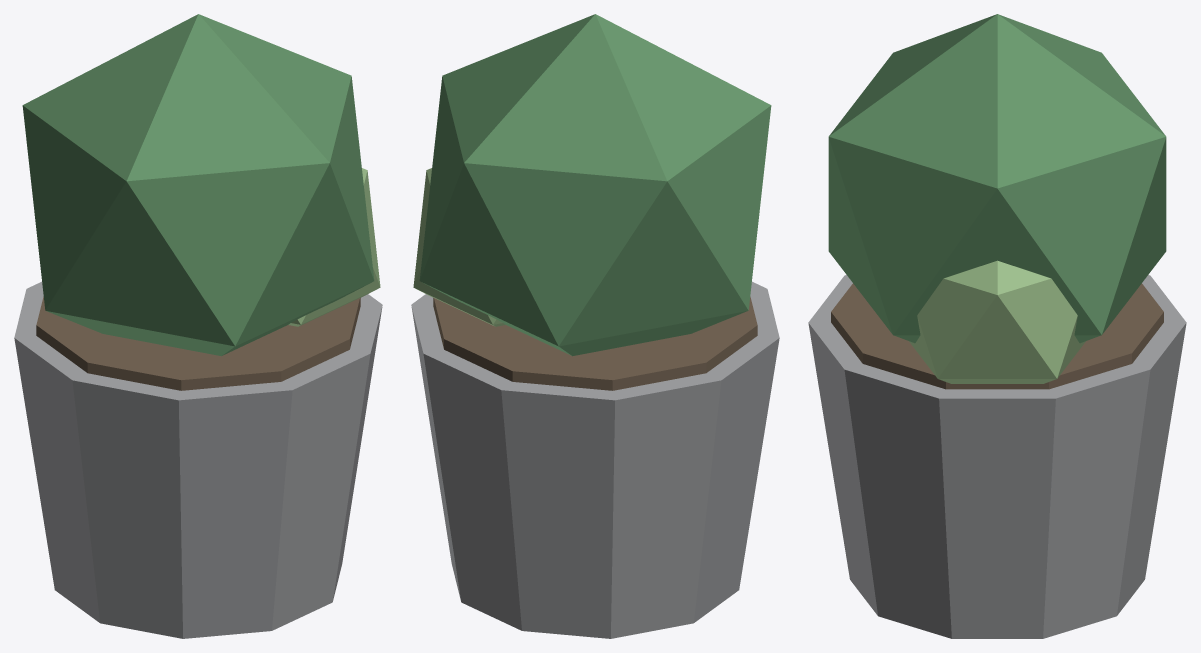
The model's file is pla_vaso_coz1.glb.
The picture shows the model from 3 angles, left to right: view 1: azimuth 30°, elevation 25°; view 2: azimuth 150°, elevation 25°; view 3: azimuth 270°, elevation 25°; orthographic projection.
Parts seen in each view (by area): view 1: PLA_VASO_COZ1_v01; view 2: PLA_VASO_COZ1_v01; view 3: PLA_VASO_COZ1_v01.
Boxes of the visible parts, box(x1,y1,x2,y2) form: PLA_VASO_COZ1_v01: box(14, 14, 382, 638); PLA_VASO_COZ1_v01: box(411, 14, 779, 638); PLA_VASO_COZ1_v01: box(808, 14, 1186, 638).
Size of the model in its own units: 0.318 by 0.528 by 0.32.
